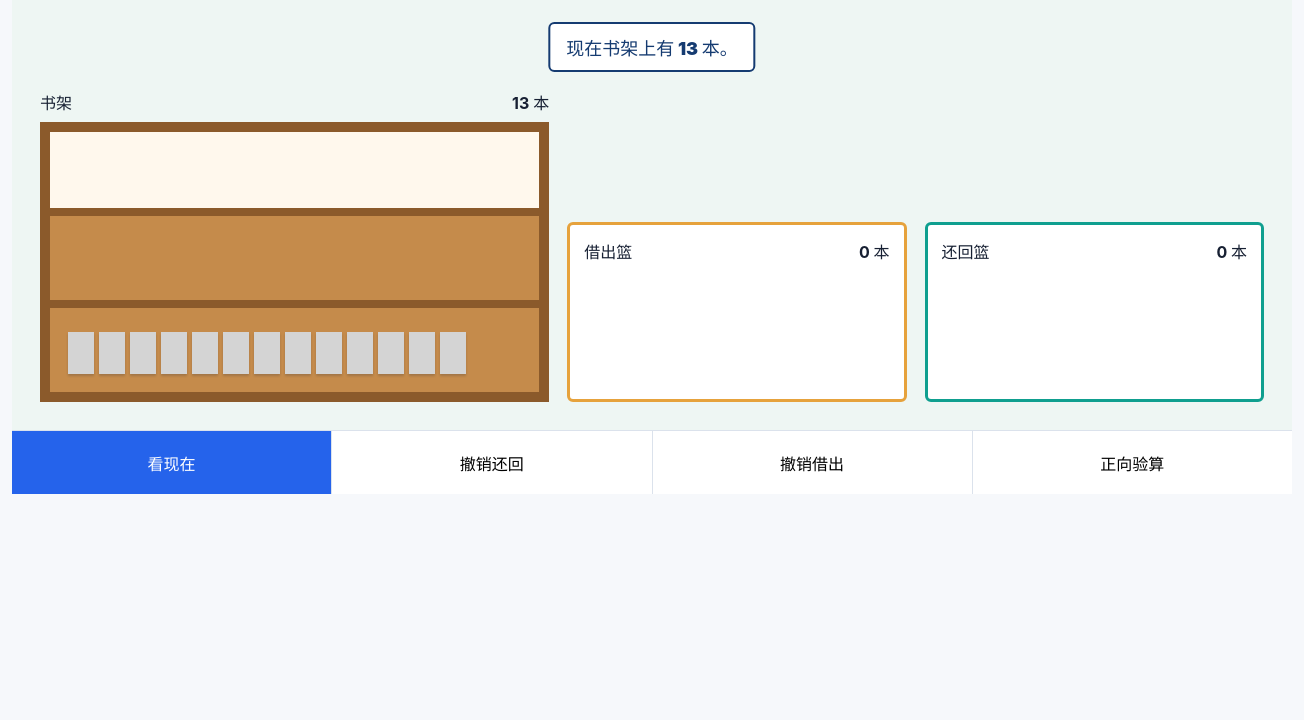
Scenario: M39 borrow-return animation › updates individual books in one coherent scene across reverse steps
The width and height of the screenshot is (1304, 720).
Click the button "撤销还回" at (492, 462), box [332,431,652,494]
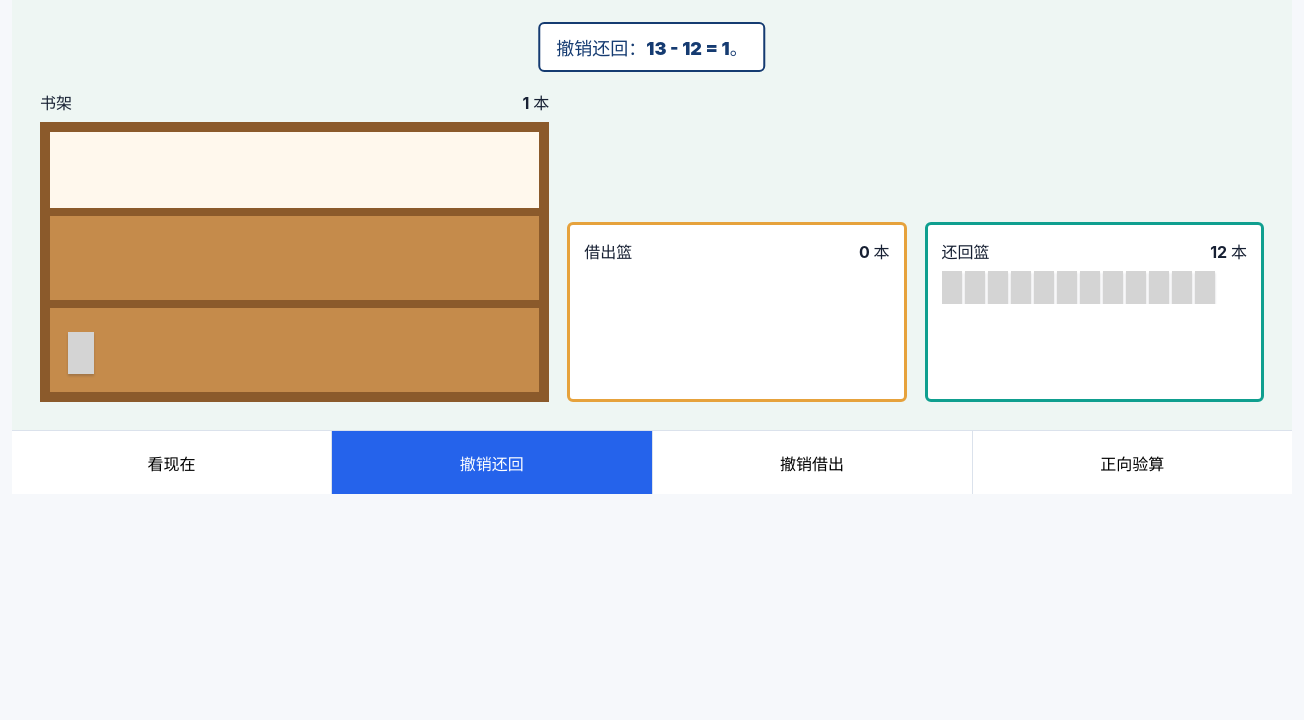
Click the button "撤销借出" at (812, 462), box [652,431,972,494]
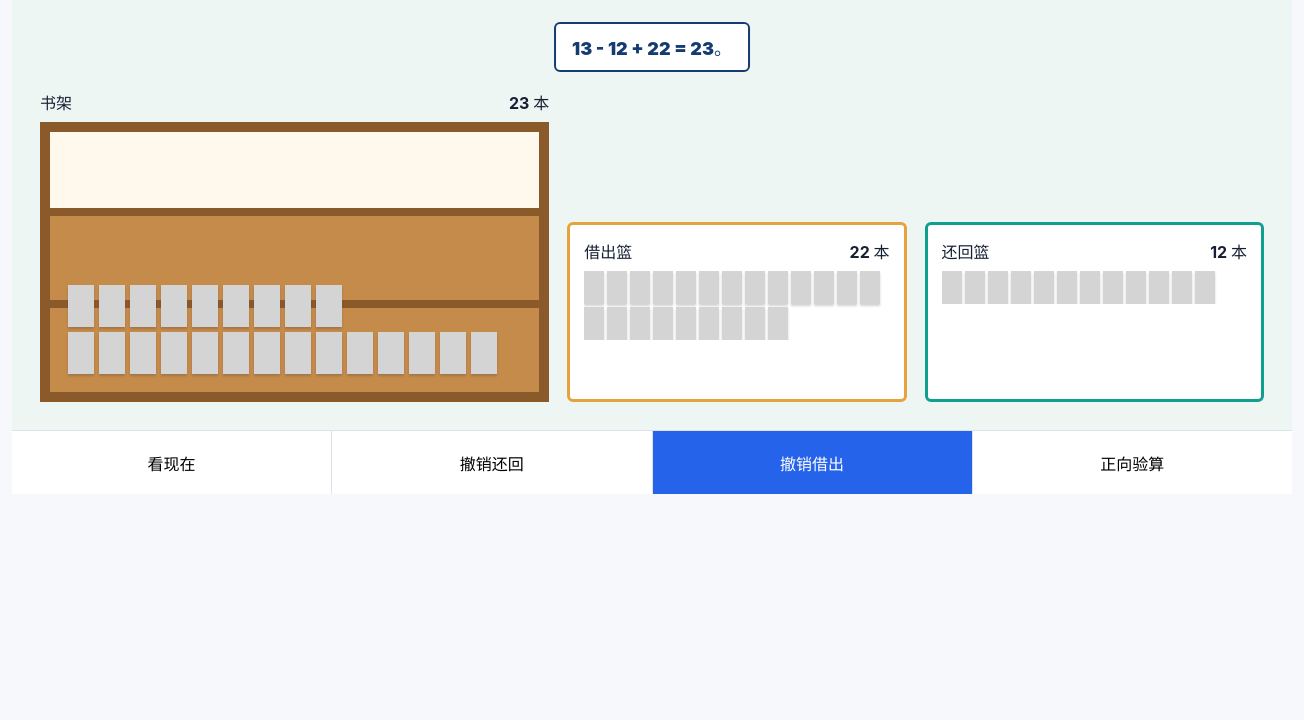
Expected: the text "13 - 12 + 22 = 23" is shown, [572,38,732,59]
